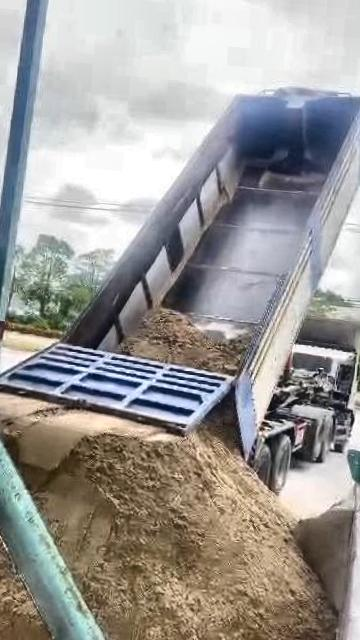sand: (0, 394, 334, 640), (0, 478, 89, 640), (120, 308, 249, 375), (295, 504, 355, 614)
